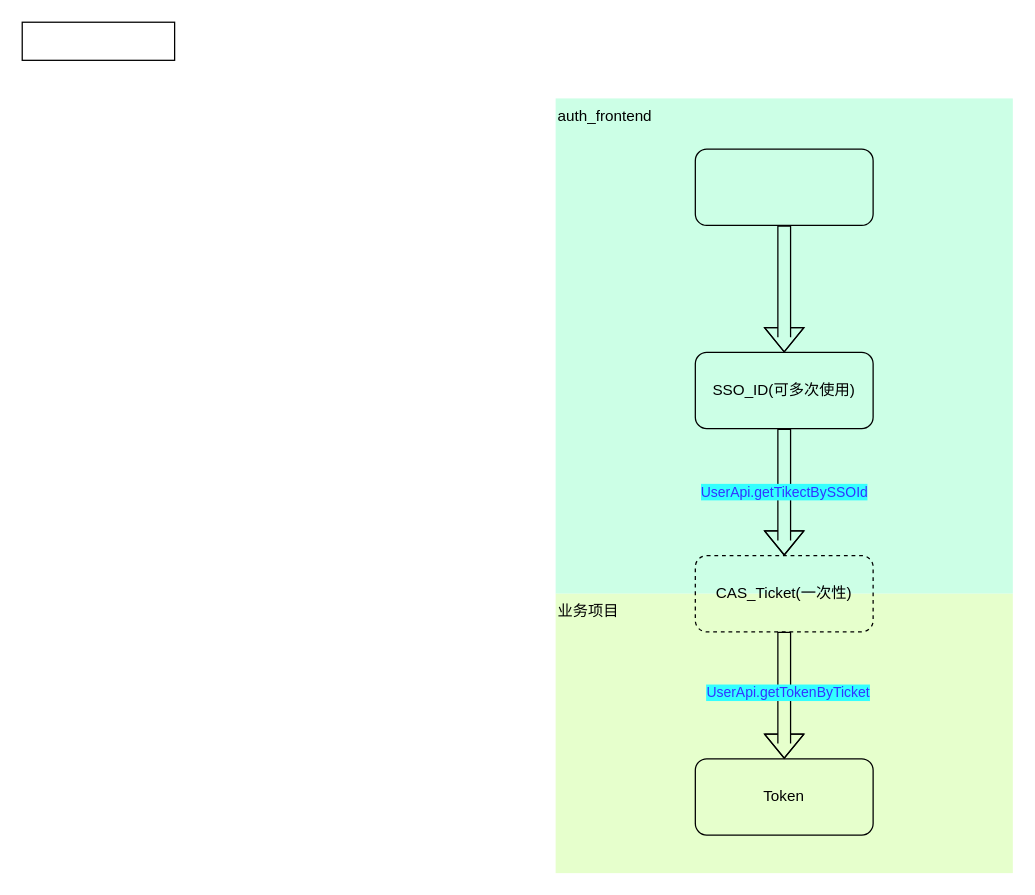
Image size: 1035x895. Some labels were removed from this diagram. The shapes that lost their labels are listed below. From the top down, each one's centre as x and y in pixels, then its label:
At point 98,40: "Version.20220913".
At point 783,186: "Login Successful".
